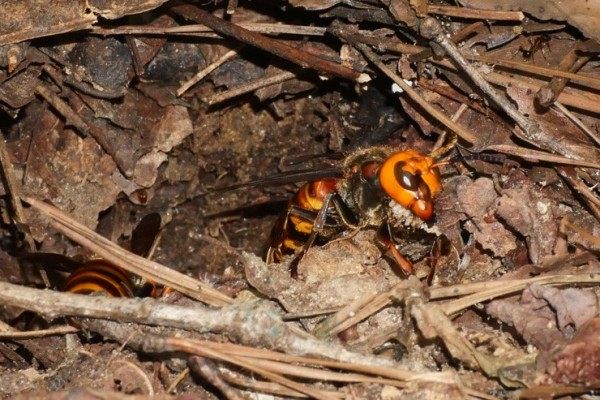asian_giant_hornet: (265, 105, 467, 273), (36, 209, 167, 298)
